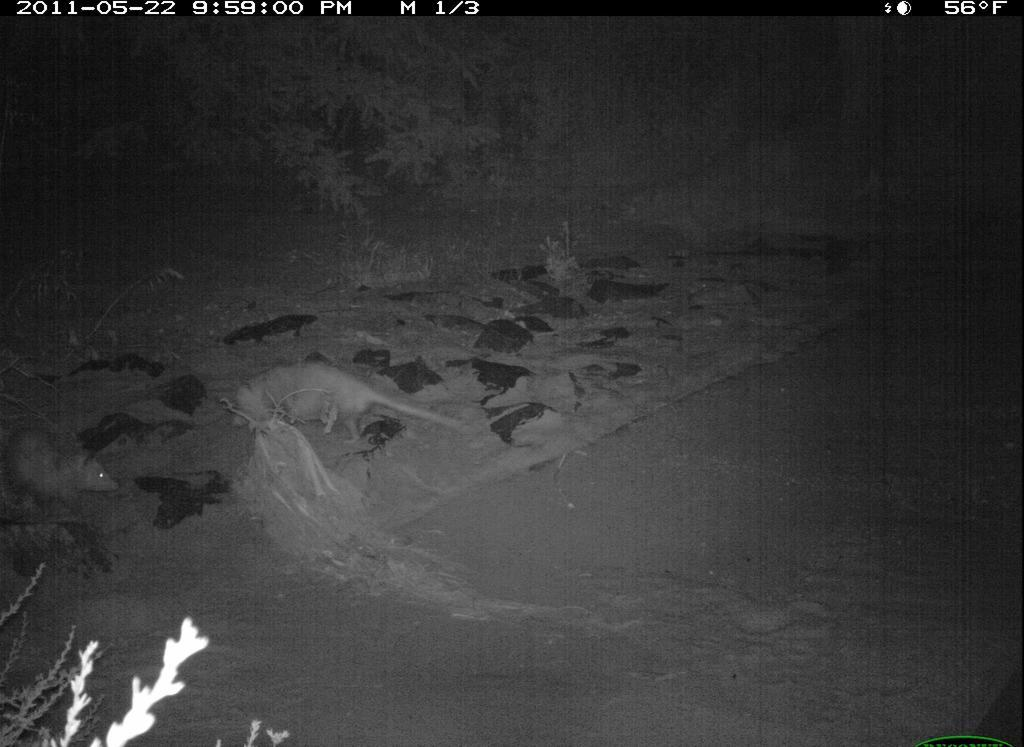opossum: (257, 358, 408, 447), (16, 431, 123, 498)
